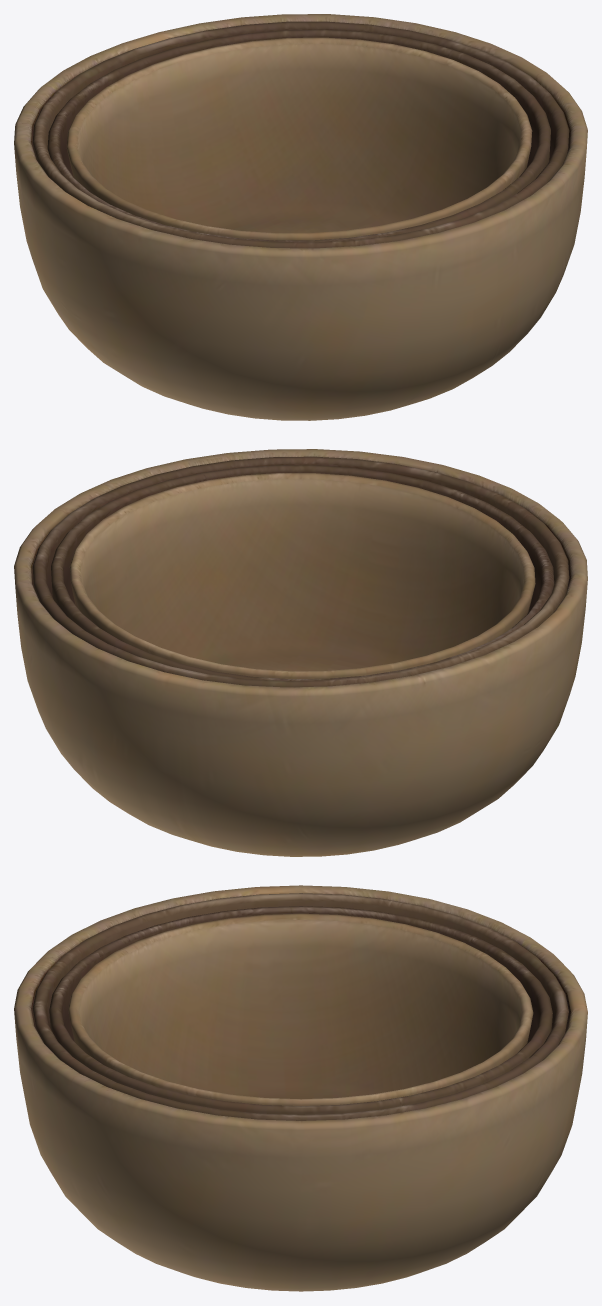
File: bowl.glb
3 views of the same model, one above another, from view 1: azimuth 30°, elevation 25°; view 2: azimuth 150°, elevation 25°; view 3: azimuth 270°, elevation 25° (orthographic).
Visible parts, largest first — view 1: large_09 - Default_0; view 2: large_09 - Default_0; view 3: large_09 - Default_0.
Boxes of the visible parts, bbox=[...] form: large_09 - Default_0: bbox=[14, 14, 587, 420]; large_09 - Default_0: bbox=[14, 449, 587, 856]; large_09 - Default_0: bbox=[14, 885, 587, 1291].
Size of the model in its own units: 0.1729 by 0.08 by 0.1729.
1 material, 1 textured.
